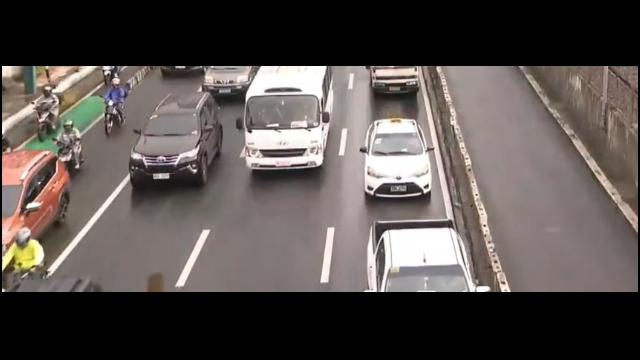bus: (241, 65, 333, 172)
car: (130, 91, 222, 189), (0, 150, 72, 273), (360, 117, 434, 201), (201, 66, 259, 99), (368, 66, 419, 96)
motorcycle: (1, 228, 45, 292), (33, 85, 63, 147), (58, 121, 84, 180), (101, 77, 127, 135)
pickup-truck: (364, 217, 489, 292)
